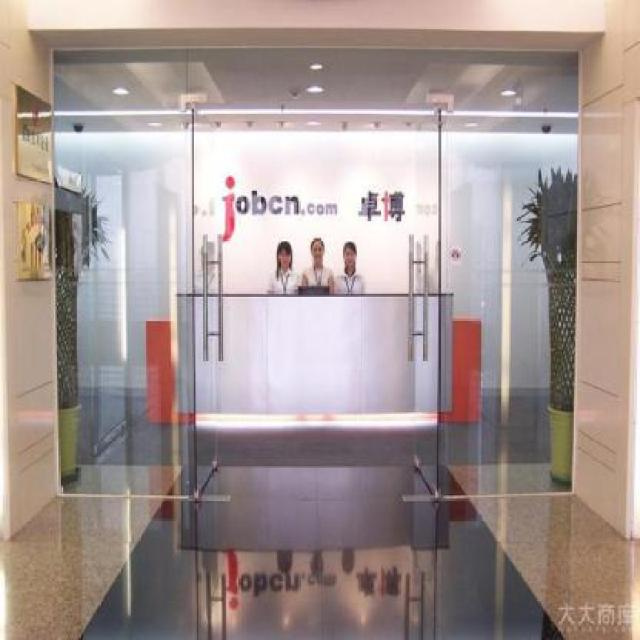frontdesk: (169, 270, 471, 432)
